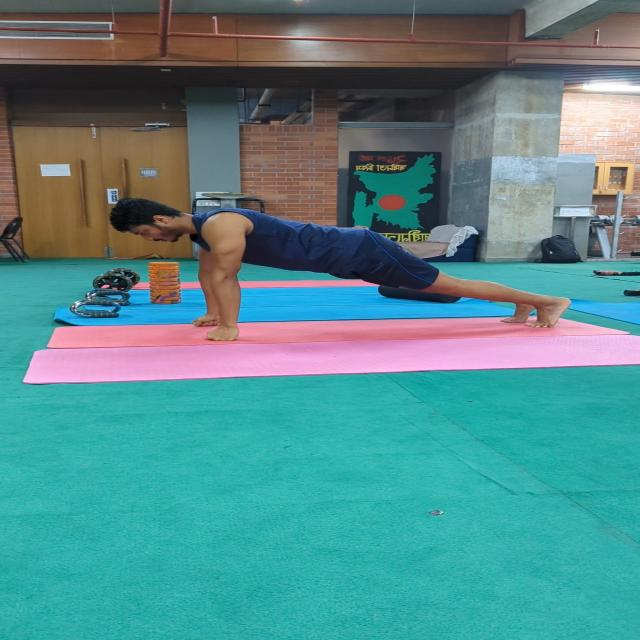Normal_PushUps: (89, 193, 572, 355)
